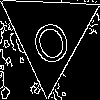O: (24, 9, 75, 69)
